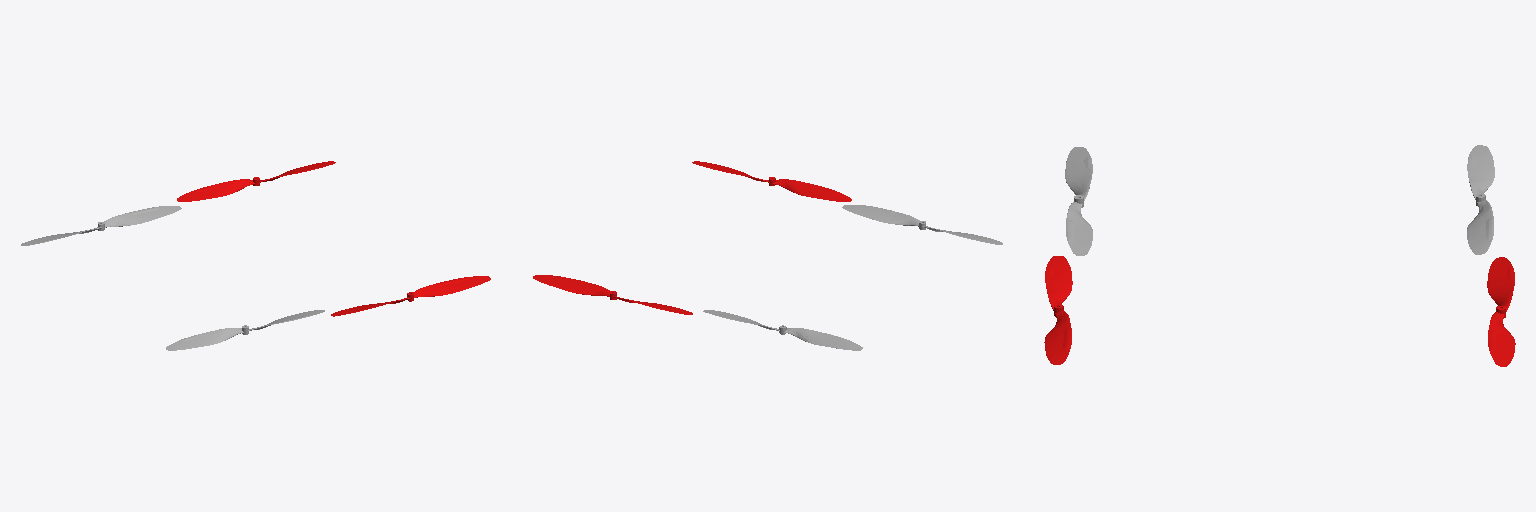
URDF robot description (iris):
<?xml version="1.0" ?>
<robot name="iris">

  <material name="grey">
    <color rgba=".7 .7 .7 1"/>
  </material>

  <material name="green">
    <color rgba=".1 .8 .1 1"/>
  </material>

  <material name="blue">
    <color rgba=".3 .5 .8 1"/>
  </material>

  <material name="red">
    <color rgba=".9 .1 .1 1"/>
  </material>

  <joint name="imu_joint" type="fixed">
    <parent link="base_link"/>
    <child link="imu_link"/>
    <origin xyz="0 0 0" rpy="0 0 0"/>
    <axis xyz="1 0 0"/>
    <limit lower="0.0" upper="0.0" effort="0.0" velocity="0.0"/>
  </joint>
  <joint name="rotor_0_joint" type="revolute">
    <parent link="base_link"/>
    <child link="rotor_0"/>
    <origin xyz="0.13  -0.22   0.023" rpy="0 0 0"/>
    <axis xyz="0 0 1"/>
    <limit lower="-1e+16" upper="1e+16" effort="0.0" velocity="0.0"/>
  </joint>
  <joint name="rotor_1_joint" type="revolute">
    <parent link="base_link"/>
    <child link="rotor_1"/>
    <origin xyz="-0.13   0.2    0.023" rpy="0 0 0"/>
    <axis xyz="0 0 1"/>
    <limit lower="-1e+16" upper="1e+16" effort="0.0" velocity="0.0"/>
  </joint>
  <joint name="rotor_2_joint" type="revolute">
    <parent link="base_link"/>
    <child link="rotor_2"/>
    <origin xyz="0.13  0.22  0.023" rpy="0 0 0"/>
    <axis xyz="0 0 1"/>
    <limit lower="-1e+16" upper="1e+16" effort="0.0" velocity="0.0"/>
  </joint>
  <joint name="rotor_3_joint" type="revolute">
    <parent link="base_link"/>
    <child link="rotor_3"/>
    <origin xyz="-0.13  -0.2    0.023" rpy="0 0 0"/>
    <axis xyz="0 0 1"/>
    <limit lower="-1e+16" upper="1e+16" effort="0.0" velocity="0.0"/>
  </joint>
  <joint name="gps0_joint" type="fixed">
    <parent link="base_link"/>
    <child link="gps0__link"/>
    <origin xyz="0.1 0  0" rpy="0 0 0"/>
    <axis xyz="0 0 0"/>
    <limit lower="0" upper="0" effort="0" velocity="0"/>
  </joint>
  <link name="base_link">
    <!-- <inertial>
      <mass value="1.5"/>
      <origin xyz="0 0 0" rpy="0 0 0"/>
      <inertia ixx="0.029125" ixy="0" ixz="0" iyy="0.029125" iyz="0" izz="0.055225"/>
    </inertial> -->
    <collision name="base_link_inertia_collision">
      <origin xyz="0 0 0" rpy="0 0 0"/>
      <geometry>
        <box size="0.47 0.47 0.11"/>
      </geometry>
    </collision>
    <visual>
      <origin xyz="0 0 0" rpy="0 0 0"/>
      <geometry>
        <mesh filename="package://fss_px4_sim/model/meshes/iris.stl" scale="1 1 1"/>
      </geometry>
      <material name="red"/> <!-- Added by Peixuan Shu -->
    </visual>
  </link>
  <link name="imu_link">
    <inertial>
      <mass value="0.015"/>
      <origin xyz="0 0 0" rpy="0 0 0"/>
      <inertia ixx="1e-05" ixy="0" ixz="0" iyy="1e-05" iyz="0" izz="1e-05"/>
    </inertial>
  </link>
  <link name="rotor_0">
    <inertial>
      <mass value="0.005"/>
      <origin xyz="0 0 0" rpy="0 0 0"/>
      <inertia ixx="9.75e-07" ixy="0" ixz="0" iyy="0.000273104" iyz="0" izz="0.000274004"/>
    </inertial>
    <collision name="rotor_0_collision">
      <origin xyz="0 0 0" rpy="0 0 0"/>
      <geometry>
        <cylinder radius="0.128" length="0.005"/>
      </geometry>
    </collision>
    <visual name="rotor_0_visual">
      <origin xyz="0 0 0" rpy="0 0 0"/>
      <geometry>
        <mesh filename="package://fss_px4_sim/model/meshes/iris_prop_ccw.stl" scale="1 1 1"/>
      </geometry>
      <material name="red"/> <!-- Added by Peixuan Shu -->
    </visual>
  </link>
  <link name="rotor_1">
    <inertial>
      <mass value="0.005"/>
      <origin xyz="0 0 0" rpy="0 0 0"/>
      <inertia ixx="9.75e-07" ixy="0" ixz="0" iyy="0.000273104" iyz="0" izz="0.000274004"/>
    </inertial>
    <collision name="rotor_1_collision">
      <origin xyz="0 0 0" rpy="0 0 0"/>
      <geometry>
        <cylinder radius="0.128" length="0.005"/>
      </geometry>
    </collision>
    <visual>
      <origin xyz="0 0 0" rpy="0 0 0"/>
      <geometry>
        <mesh filename="package://fss_px4_sim/model/meshes/iris_prop_ccw.stl" scale="1 1 1"/>
      </geometry>
      <material name="grey"/> <!-- Added by Peixuan Shu -->
    </visual>
  </link>
  <link name="rotor_2">
    <inertial>
      <mass value="0.005"/>
      <origin xyz="0 0 0" rpy="0 0 0"/>
      <inertia ixx="9.75e-07" ixy="0" ixz="0" iyy="0.000273104" iyz="0" izz="0.000274004"/>
    </inertial>
    <collision name="rotor_2_collision">
      <origin xyz="0 0 0" rpy="0 0 0"/>
      <geometry>
        <cylinder radius="0.128" length="0.005"/>
      </geometry>
    </collision>
    <visual name="rotor_2_visual">
      <origin xyz="0 0 0" rpy="0 0 0"/>
      <geometry>
        <mesh filename="package://fss_px4_sim/model/meshes/iris_prop_cw.stl" scale="1 1 1"/>
      </geometry>
      <material name="red"/> <!-- Added by Peixuan Shu -->
    </visual>
  </link>
  <link name="rotor_3">
    <inertial>
      <mass value="0.005"/>
      <origin xyz="0 0 0" rpy="0 0 0"/>
      <inertia ixx="9.75e-07" ixy="0" ixz="0" iyy="0.000273104" iyz="0" izz="0.000274004"/>
    </inertial>
    <collision name="rotor_3_collision">
      <origin xyz="0 0 0" rpy="0 0 0"/>
      <geometry>
        <cylinder radius="0.128" length="0.005"/>
      </geometry>
    </collision>
    <visual name="rotor_3_visual">
      <origin xyz="0 0 0" rpy="0 0 0"/>
      <geometry>
        <mesh filename="package://fss_px4_sim/model/meshes/iris_prop_cw.stl" scale="1 1 1"/>
      </geometry>
      <material name="grey"/> <!-- Added by Peixuan Shu -->
    </visual>
  </link>
  <link name="gps0__link">
    <inertial>
      <mass value="0.015"/>
      <origin xyz="0 0 0" rpy="0 0 0"/>
      <inertia ixx="1e-05" ixy="0" ixz="0" iyy="1e-05" iyz="0" izz="1e-05"/>
    </inertial>
    <!-- <visual name="gps0__visual">
      <origin xyz="0 0 0" rpy="0 0 0"/>
      <geometry>
        <cylinder radius="0.01" length="0.002"/>
      </geometry>
    </visual> -->
  </link>
</robot>

--- Render facts (derived) ---
The picture shows the robot from 3 angles, left to right: view 1: azimuth 30°, elevation 25°; view 2: azimuth 150°, elevation 25°; view 3: azimuth 270°, elevation 25°; orthographic projection.
Robot: iris — 7 links, 6 joints (4 revolute, 2 fixed); root link base_link; default pose: all joints at 0.
Links seen in each view (by area): view 1: rotor_0, rotor_1, rotor_2, rotor_3; view 2: rotor_3, rotor_1, rotor_2, rotor_0; view 3: rotor_1, rotor_2, rotor_3, rotor_0.
Boxes of the visible links, <box> form: rotor_0: <box>331,276,490,316</box>; rotor_1: <box>21,206,181,245</box>; rotor_2: <box>177,161,335,201</box>; rotor_3: <box>166,310,324,350</box>; rotor_3: <box>842,205,1002,244</box>; rotor_1: <box>703,310,862,350</box>; rotor_2: <box>533,275,692,314</box>; rotor_0: <box>692,161,851,201</box>; rotor_1: <box>1467,145,1494,254</box>; rotor_2: <box>1487,257,1515,366</box>; rotor_3: <box>1065,147,1092,255</box>; rotor_0: <box>1044,256,1072,364</box>.
Size in the robot's own frame: 0.5214 by 0.4686 by 0.0103 metres.
Meshes: 3 distinct files referenced, 4 mesh visuals loaded (2 binary STL); not drawn: 1 (reference not matched to a file when rendering).
